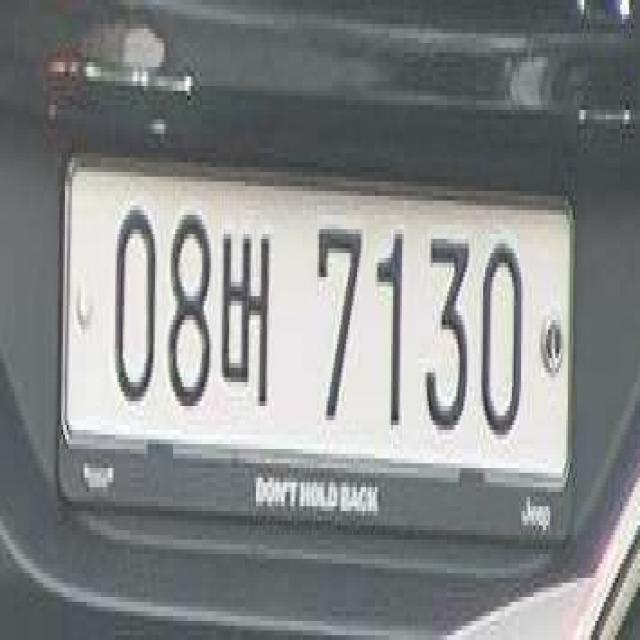illegal_plate: (61, 144, 574, 536)
